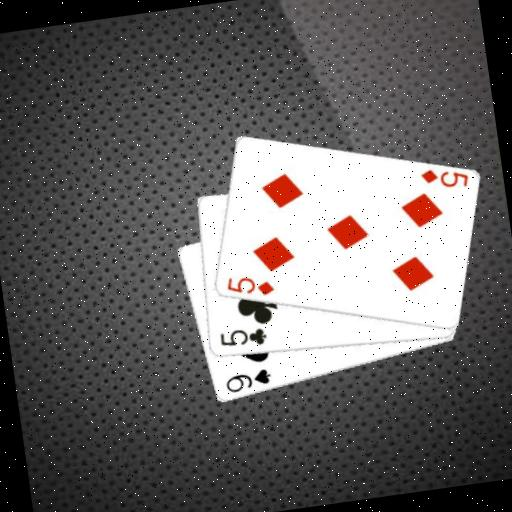5C: (216, 323, 269, 353)
5D: (416, 161, 471, 195), (222, 269, 276, 303)
9S: (221, 366, 274, 397)
